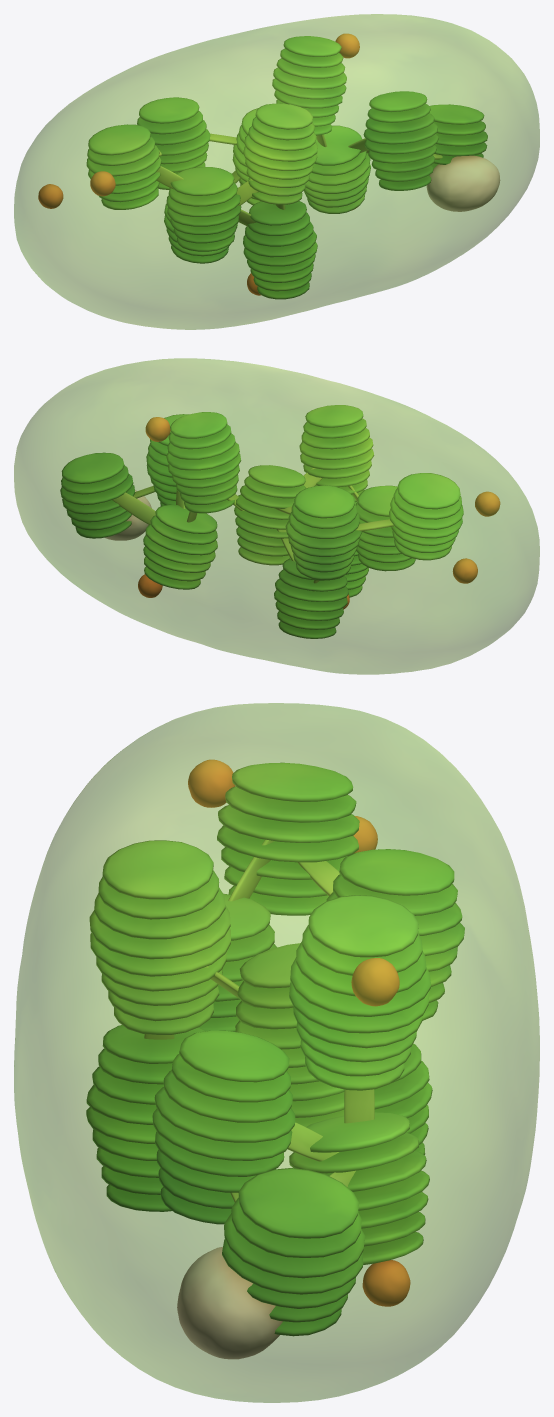
The model's file is chloroplast.glb.
The picture shows the model from 3 angles, top to bottom: view 1: azimuth 30°, elevation 25°; view 2: azimuth 150°, elevation 25°; view 3: azimuth 270°, elevation 25°; orthographic projection. The views are drawn at different scales.
Visible parts, largest first — view 1: chloroplast-envelope, chloroplast-grana, chloroplast-globules, chloroplast-stroma; view 2: chloroplast-envelope, chloroplast-grana, chloroplast-globules, chloroplast-stroma; view 3: chloroplast-envelope, chloroplast-grana, chloroplast-globules, chloroplast-stroma.
Part boxes in pixels (x1,y1,x2,y2): chloroplast-envelope: (14, 14, 539, 329); chloroplast-grana: (86, 36, 487, 299); chloroplast-globules: (38, 33, 500, 295); chloroplast-stroma: (156, 133, 442, 226); chloroplast-envelope: (14, 358, 539, 674); chloroplast-grana: (60, 405, 463, 638); chloroplast-globules: (104, 417, 500, 609); chloroplast-stroma: (112, 468, 393, 591); chloroplast-envelope: (14, 703, 539, 1402); chloroplast-grana: (86, 762, 464, 1336); chloroplast-globules: (177, 759, 410, 1359); chloroplast-stroma: (144, 839, 374, 1202).
Size of what is drawn, in the model's own units: 5.01 by 2.4 by 2.41.
